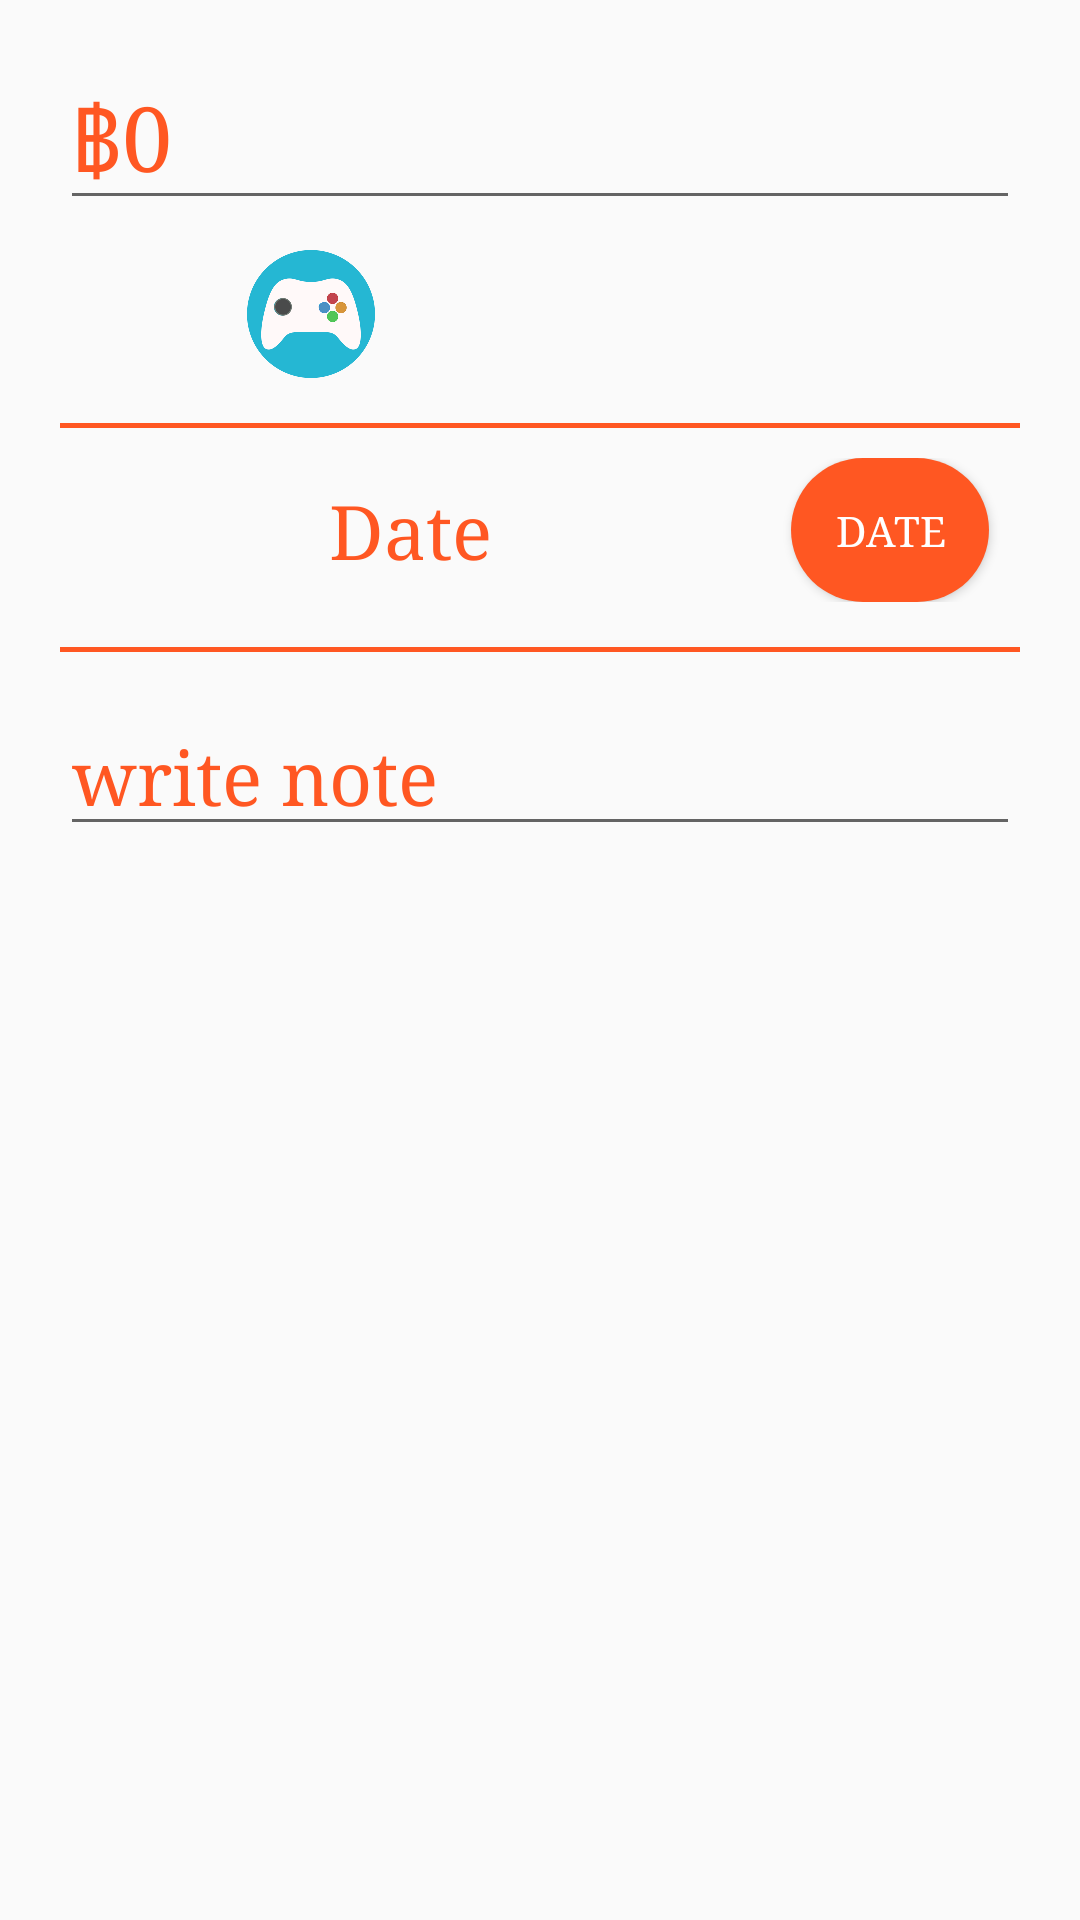

Icon bounding boxes for this 1080 x 1920 phone screenshot, format (x1, y1, x2, y2):
game: (247, 250, 375, 378)
